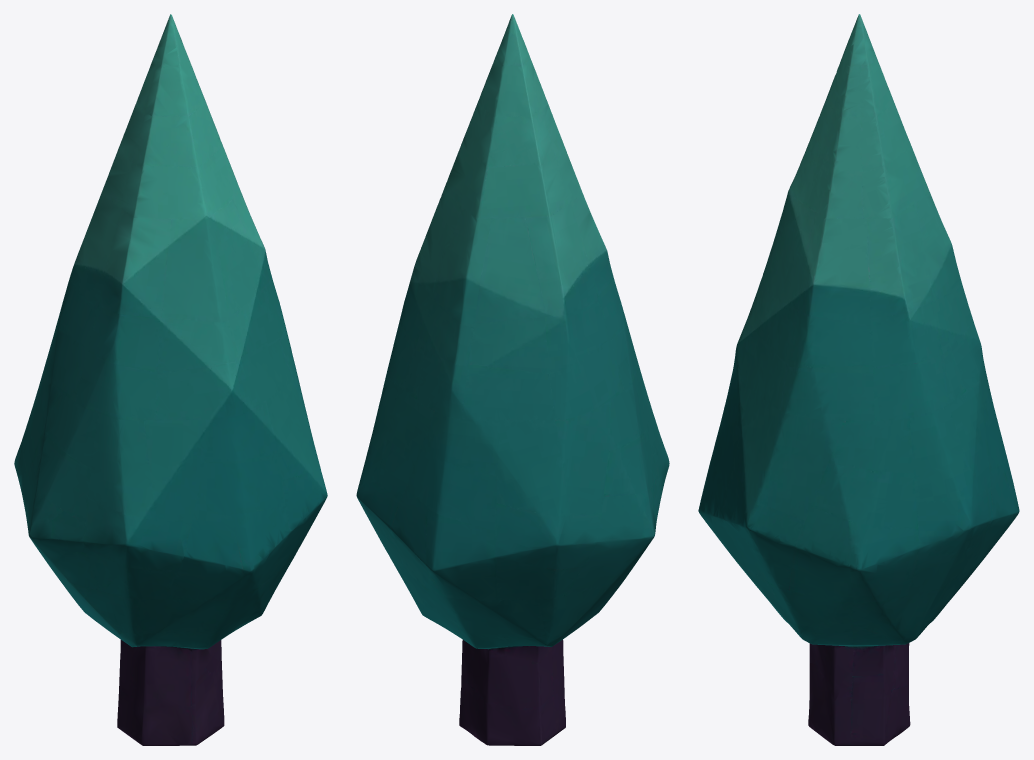
Rendered from lowpoly-tree.glb.
3 renders of one model, left to right at view 1: azimuth 30°, elevation 25°; view 2: azimuth 150°, elevation 25°; view 3: azimuth 270°, elevation 25°, orthographic.
Parts seen in each view (by area): view 1: mesh_node; view 2: mesh_node; view 3: mesh_node.
Boxes of the visible parts, x1=… form: mesh_node: x1=14, y1=14, x2=327, y2=745; mesh_node: x1=356, y1=14, x2=669, y2=745; mesh_node: x1=698, y1=14, x2=1019, y2=745.
Size of the model in its own units: 0.791 by 1.9 by 0.7773.
Materials: 1 (1 with a texture image).
